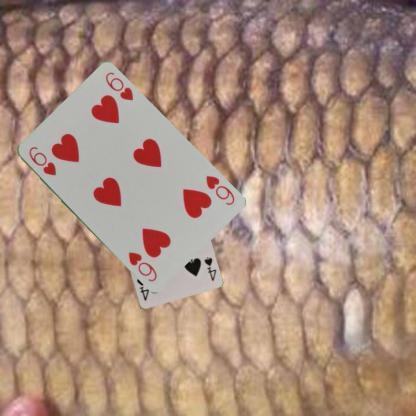4s: (202, 254, 218, 282)
6h: (203, 173, 236, 207), (26, 144, 58, 178)
